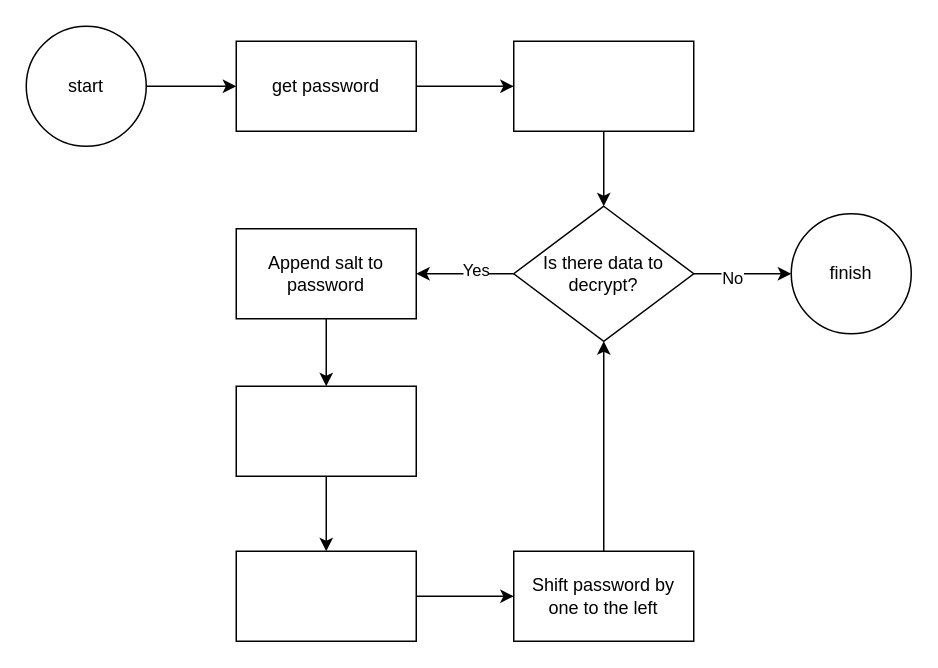
Image size: 938x668. Some labels were removed from this diagram. Each missing label, with the centre of its shape:
"Hash" belongs at (325,430).
"Read 16 byte salt from the beginning of the encrypted data" belongs at (603,85).
"Subtract the hash from the byte to encrypt (mod 256)" belongs at (325,595).
